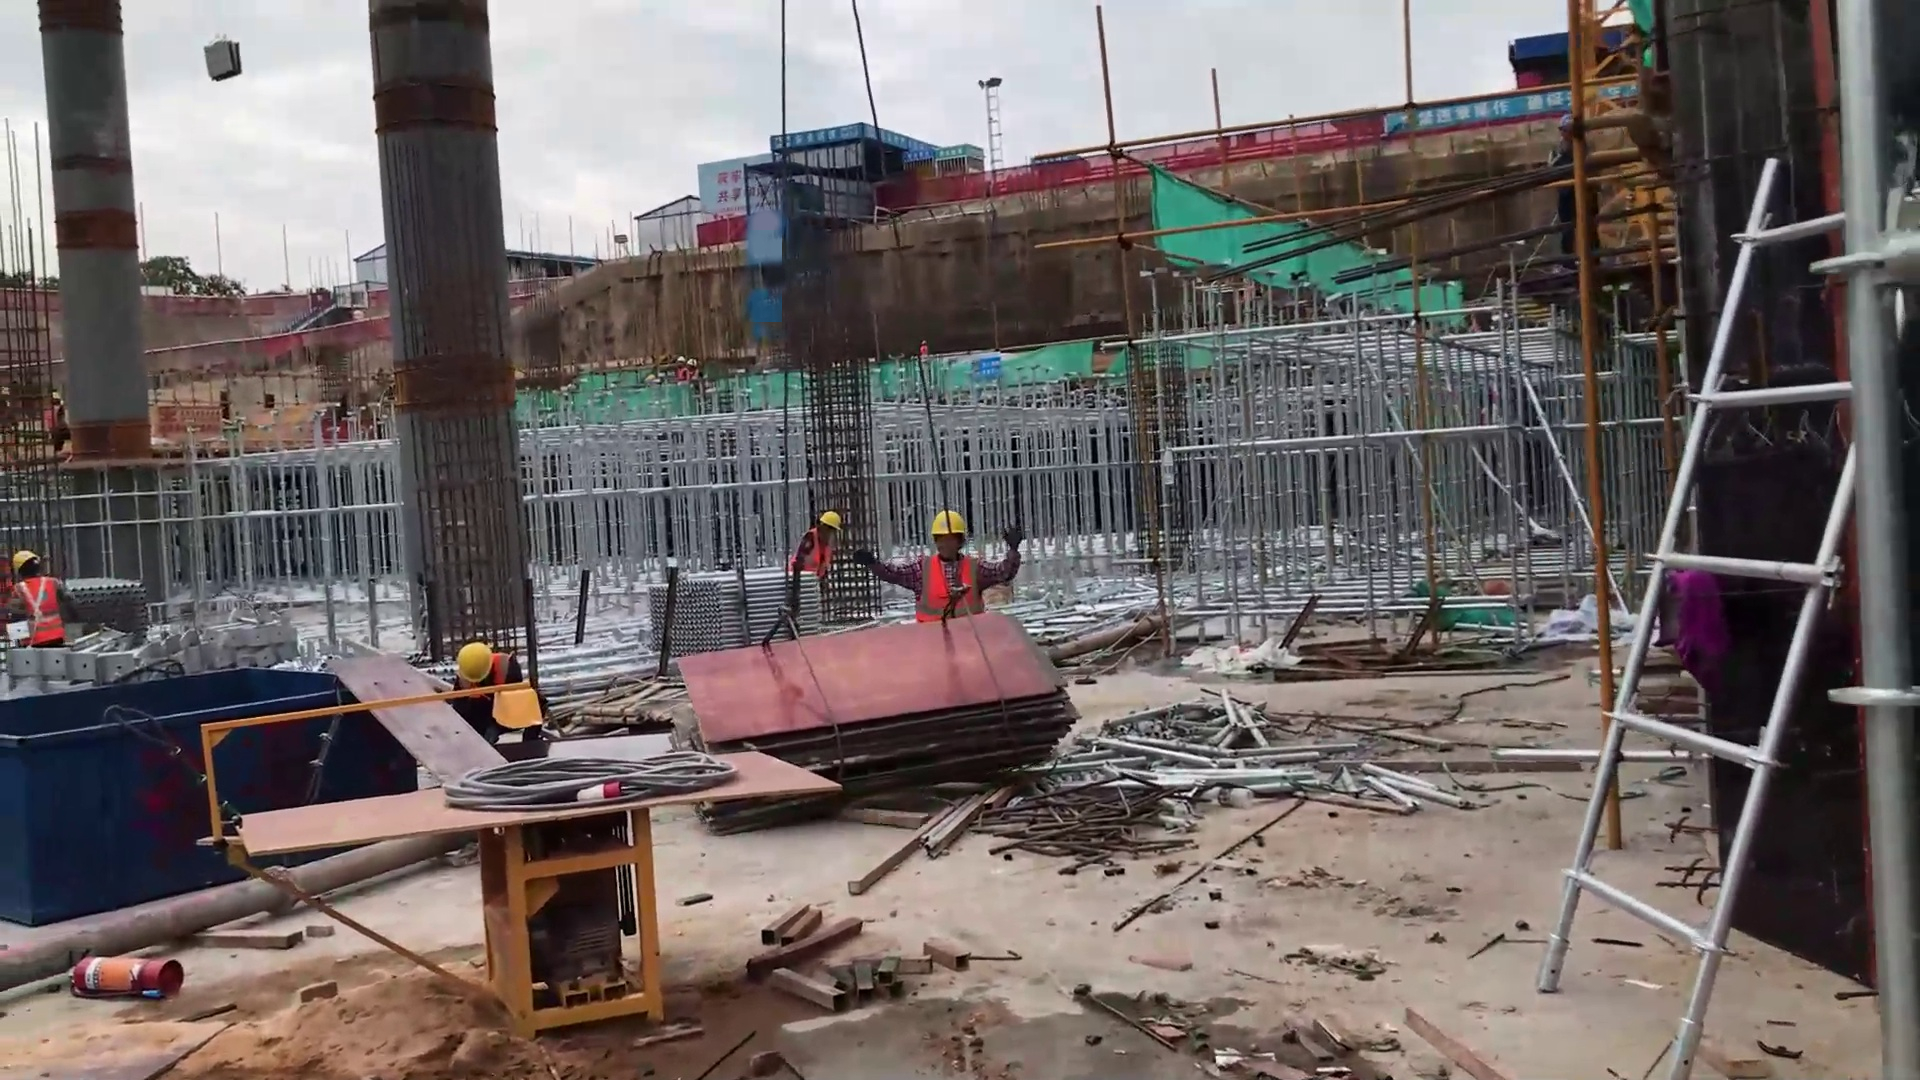helmet: (922, 506, 980, 540), (4, 549, 53, 580), (812, 505, 844, 535)
person: (859, 507, 1023, 625), (1549, 117, 1610, 298), (6, 548, 69, 660), (788, 511, 845, 606), (453, 639, 528, 689)
vest: (909, 550, 986, 618)
